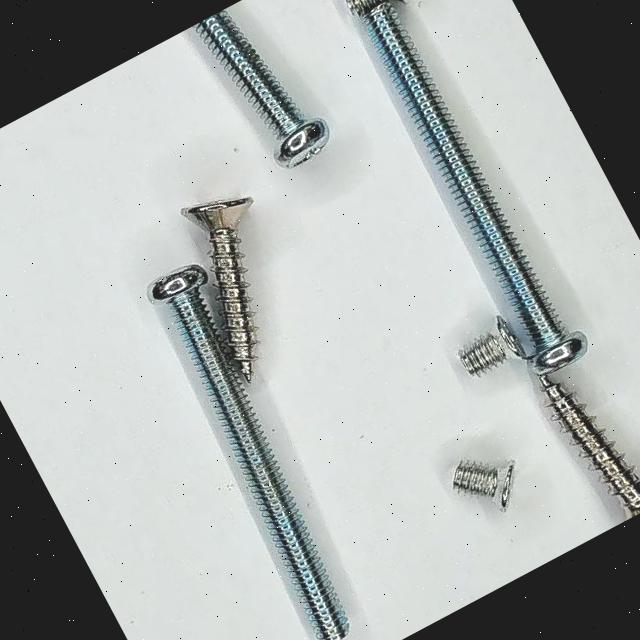Screw: (361, 0, 587, 373), (147, 265, 349, 640), (193, 9, 329, 166), (538, 375, 640, 516), (181, 196, 254, 381), (458, 315, 526, 376), (453, 461, 514, 512)
